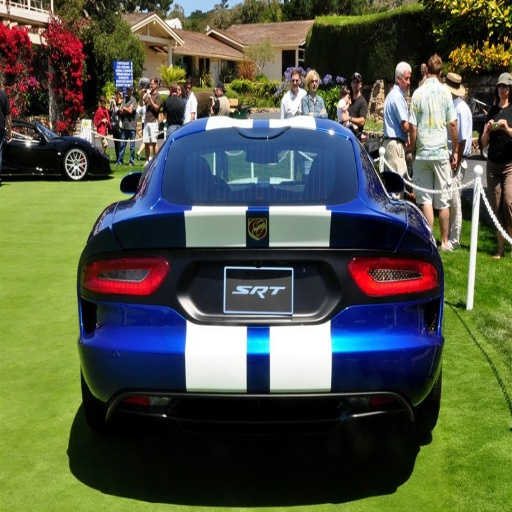back_bumper: (78, 300, 210, 430), (313, 303, 440, 425)
tailgate: (178, 259, 340, 333), (364, 260, 414, 298)
